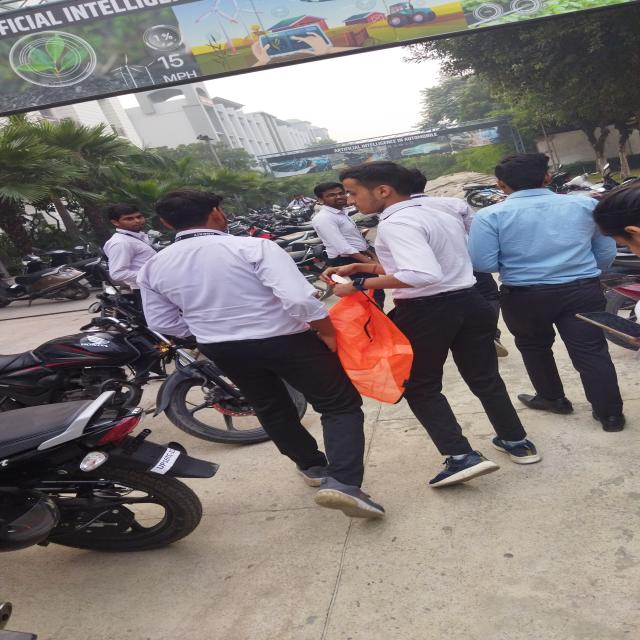unsafe: (132, 186, 393, 534), (337, 159, 536, 499), (484, 148, 613, 439), (303, 185, 377, 302)
